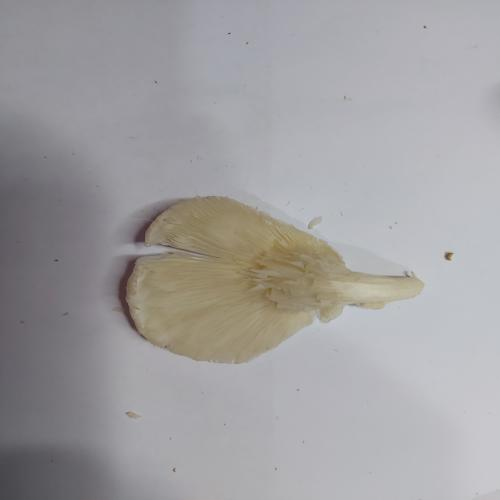Oyster Mushroom: (124, 194, 425, 365)
